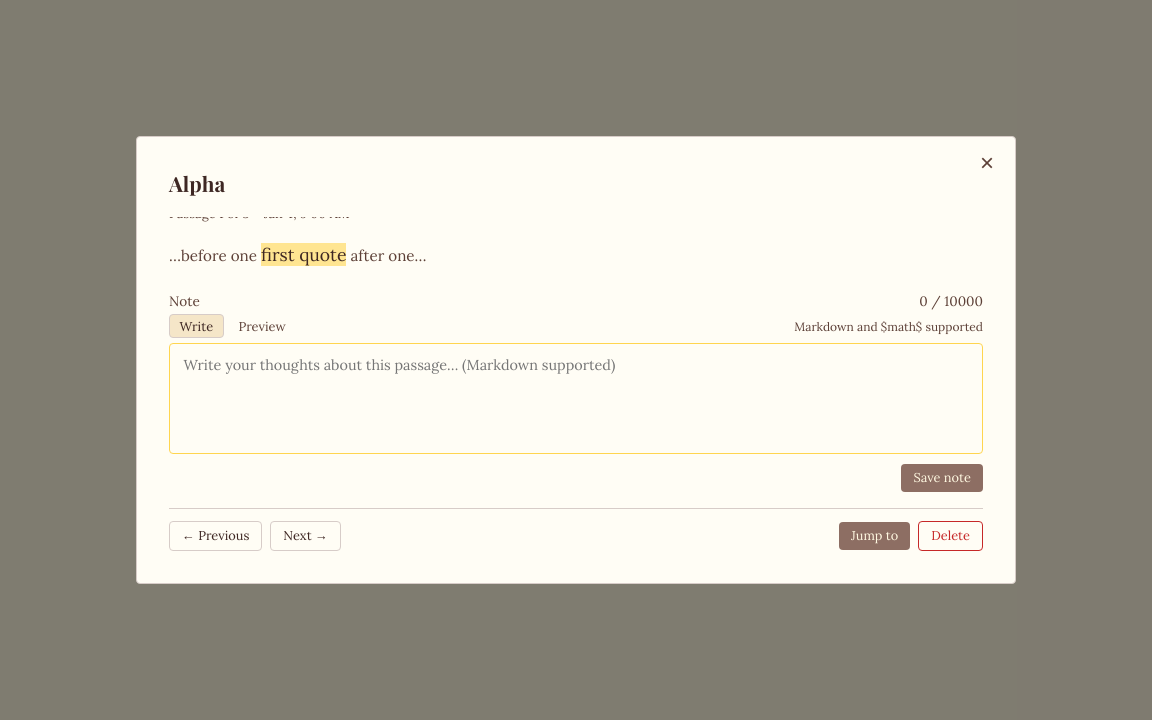
PassageFocusDialog › keeps the draft and shows an error when saving fails
The image size is (1152, 720).
Type "draft" into the text box labelled "Note" at (576, 398), box [169,343,983,454]
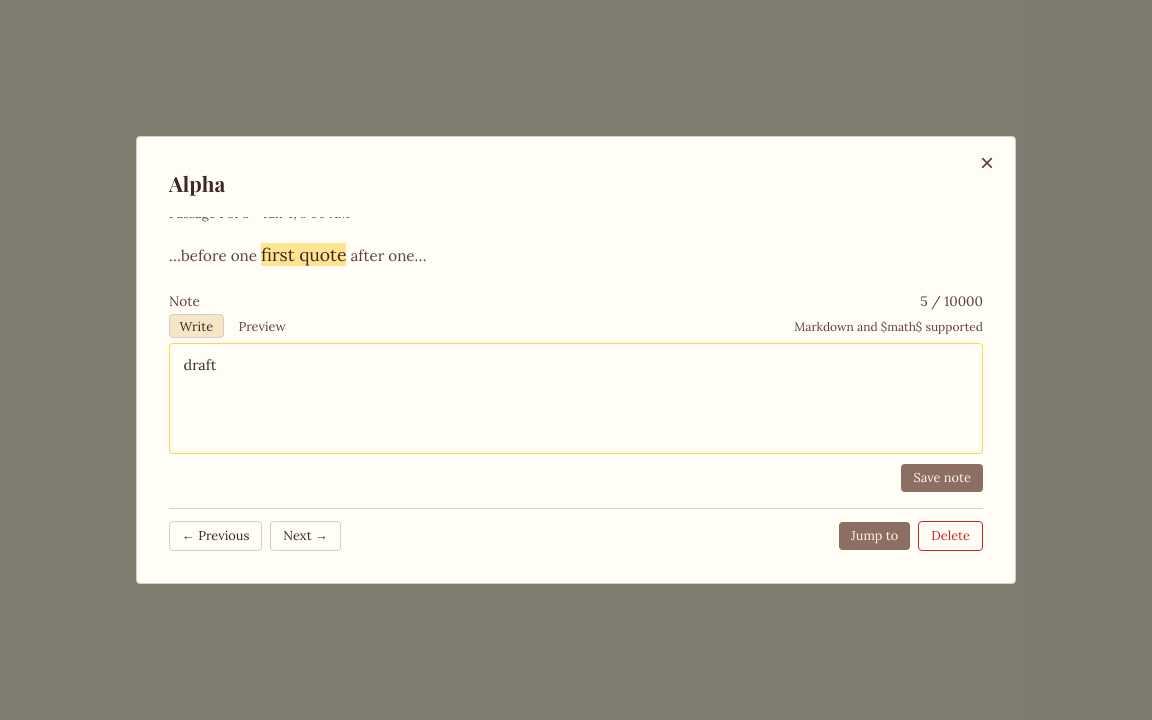
Click the button "Save note" at (942, 478), box [901,464,983,492]
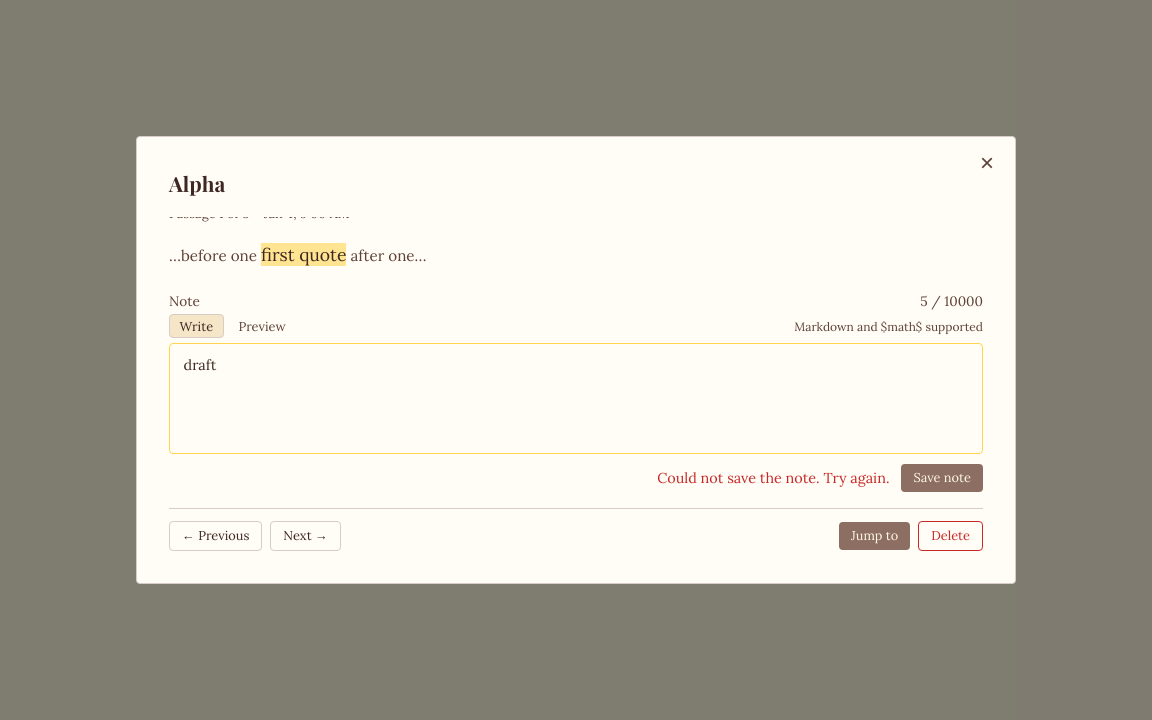
Expected: the message reads "Could not save the note. Try again.", [657,469,890,487]
